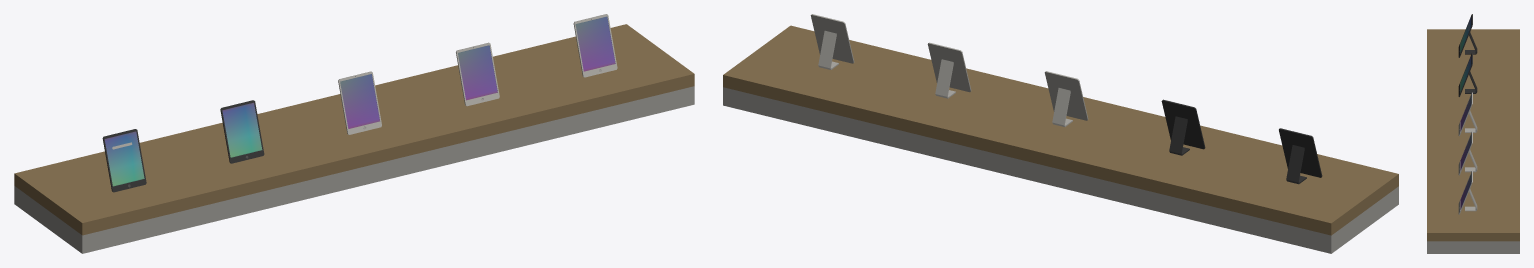
The model's file is SM_Props_Interior_Shop_Electronic_Preset_Desk_Wall_Tab.fbx.
The picture shows the model from 3 angles, left to right: view 1: azimuth 30°, elevation 25°; view 2: azimuth 150°, elevation 25°; view 3: azimuth 270°, elevation 25°; orthographic projection. The views are drawn at different scales.
Parts seen in each view (by area): view 1: SM_Props_Interior_Shop_Electronic_Preset_Desk_Wall_Tab; view 2: SM_Props_Interior_Shop_Electronic_Preset_Desk_Wall_Tab; view 3: SM_Props_Interior_Shop_Electronic_Preset_Desk_Wall_Tab.
Boxes of the visible parts, x1,y1,x2,y2 form: SM_Props_Interior_Shop_Electronic_Preset_Desk_Wall_Tab: (14,14,694,253); SM_Props_Interior_Shop_Electronic_Preset_Desk_Wall_Tab: (723,14,1398,253); SM_Props_Interior_Shop_Electronic_Preset_Desk_Wall_Tab: (1427,14,1519,253).
Bounding box in the file's own units: 260 × 32.4 × 50.
